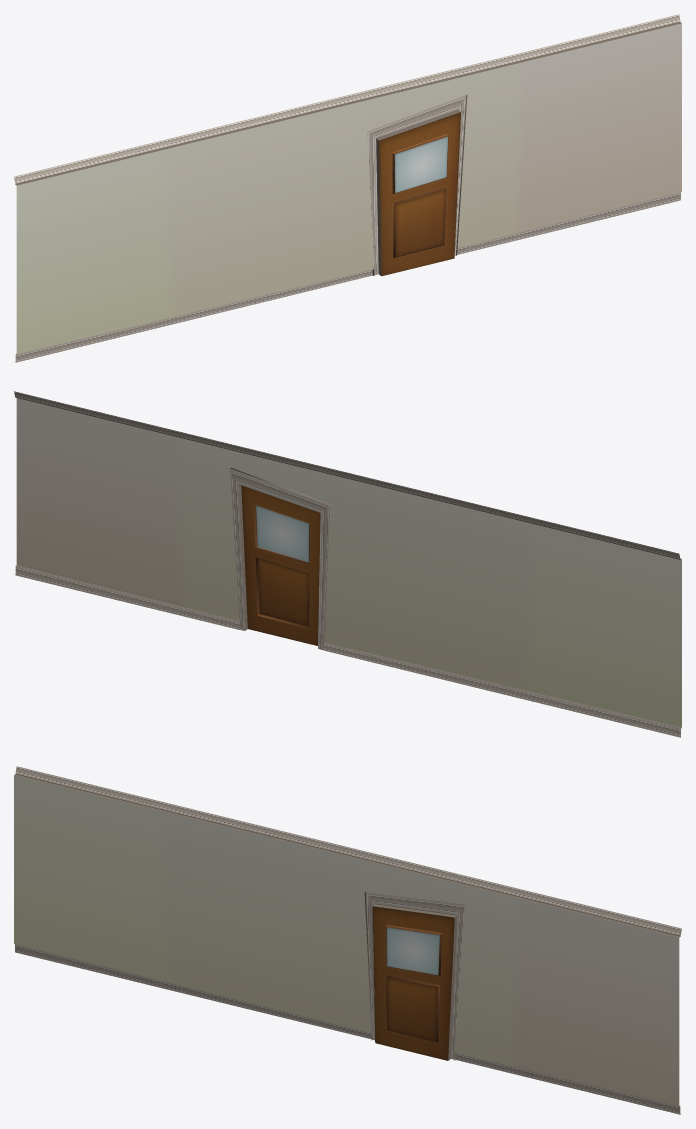
File: SM_Back_Wall.fbx
3 views of the same model, one above another, from view 1: azimuth 30°, elevation 25°; view 2: azimuth 150°, elevation 25°; view 3: azimuth 330°, elevation 25° (orthographic).
Visible parts, largest first — view 1: SM_Back_Wall; view 2: SM_Back_Wall; view 3: SM_Back_Wall.
Boxes of the visible parts, box(x1,y1,x2,y2) form: SM_Back_Wall: box(14, 14, 681, 362); SM_Back_Wall: box(14, 391, 681, 737); SM_Back_Wall: box(14, 766, 681, 1114).
Size of the model in its own units: 1291 by 343 by 18.21.
Materials: 4 (4 with a texture image).
